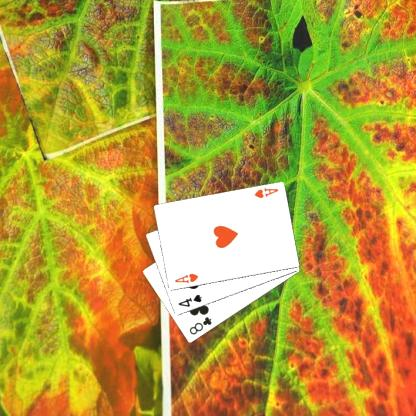4S: (175, 292, 203, 308)
8C: (186, 314, 214, 336)
AH: (252, 185, 280, 200), (172, 271, 199, 285)
